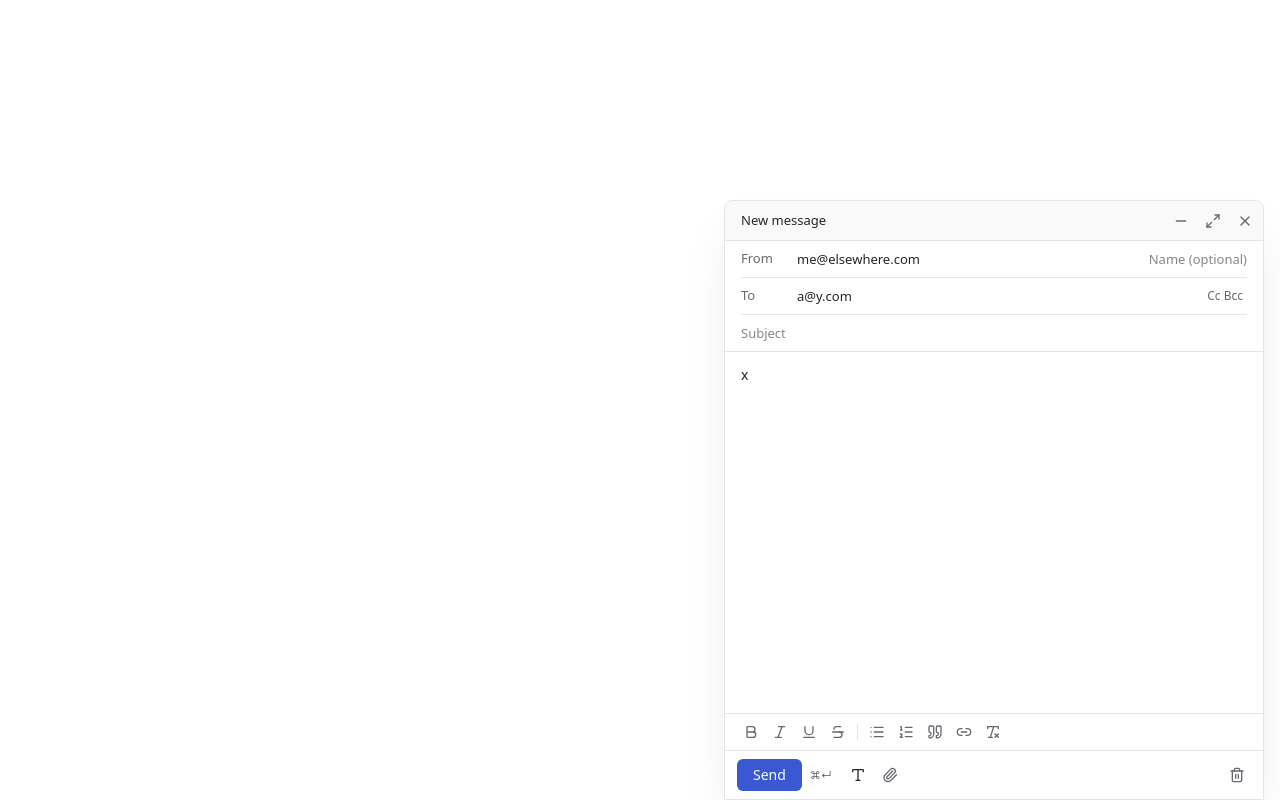
Test case: ComposeWindow — sending › surfaces a send failure and keeps the window open
Click the button "Send" at (769, 775), box [737,759,802,791]
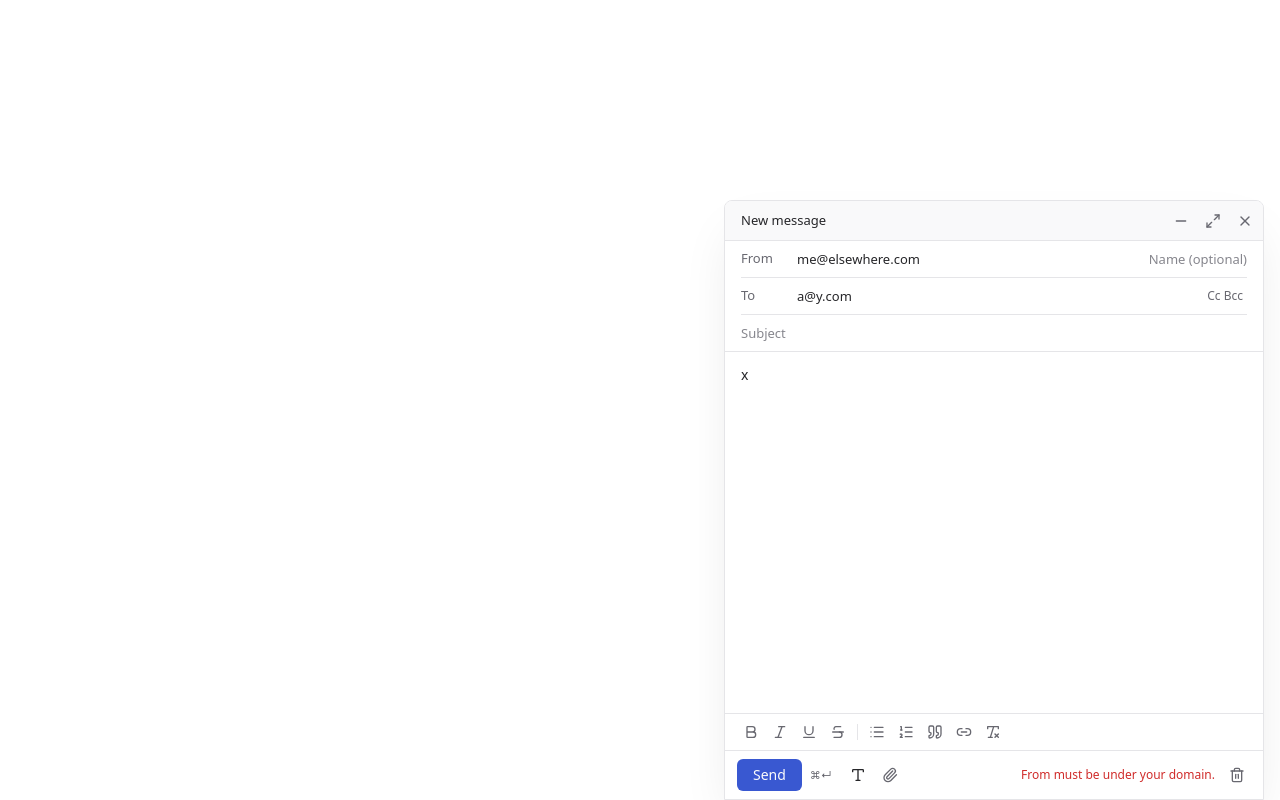
Check: the message reads "From must be under your domain.", box [1021,766,1215,783]
